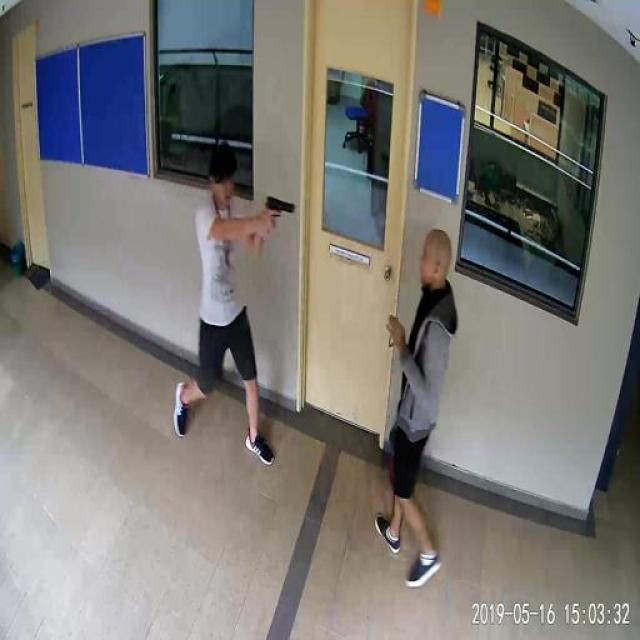Gun: (258, 187, 305, 243)
